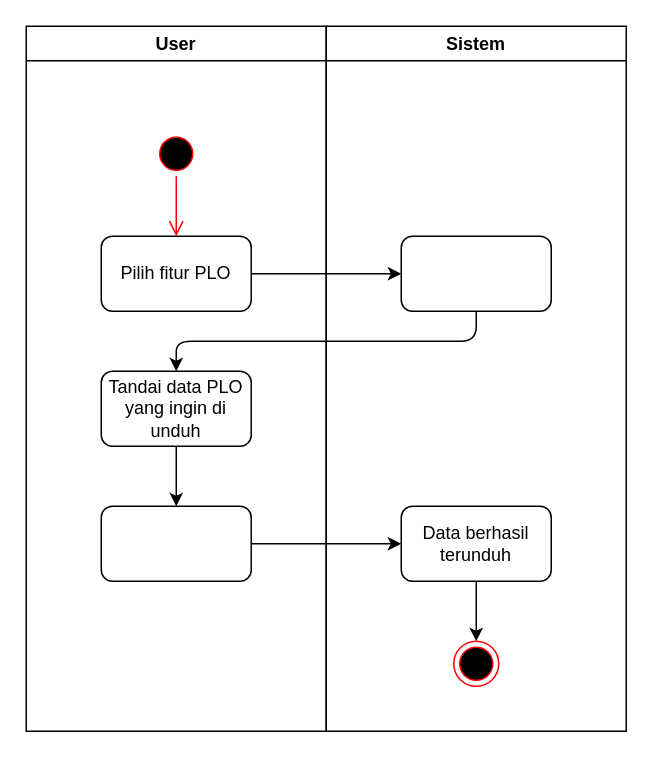
The diagram is 653 pixels wide and 758 high, and some of its shapes have lost their labels. Here are the shapes that lost their labels. From the top down, the centre of each, then its label:
[475,273]: Menampilkan halaman PLO
[175,543]: Pilih tombol download file PLO
